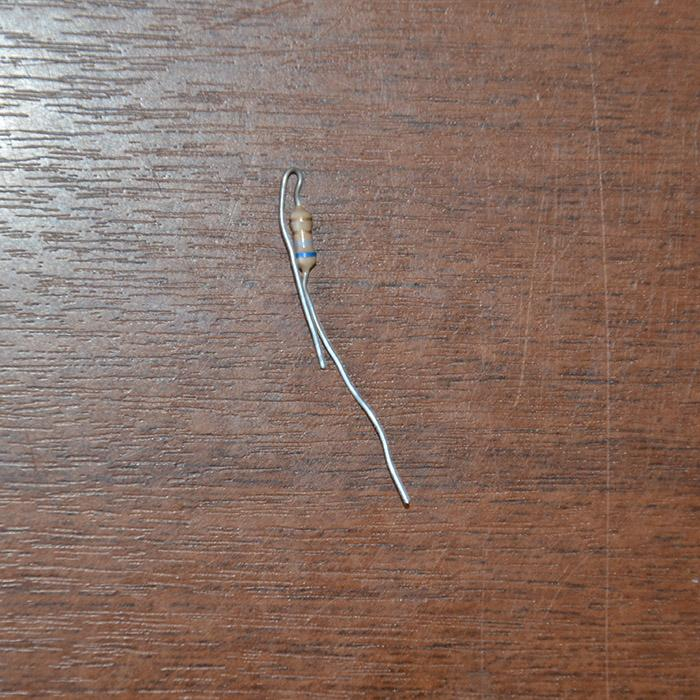resistor: (288, 201, 315, 273)
